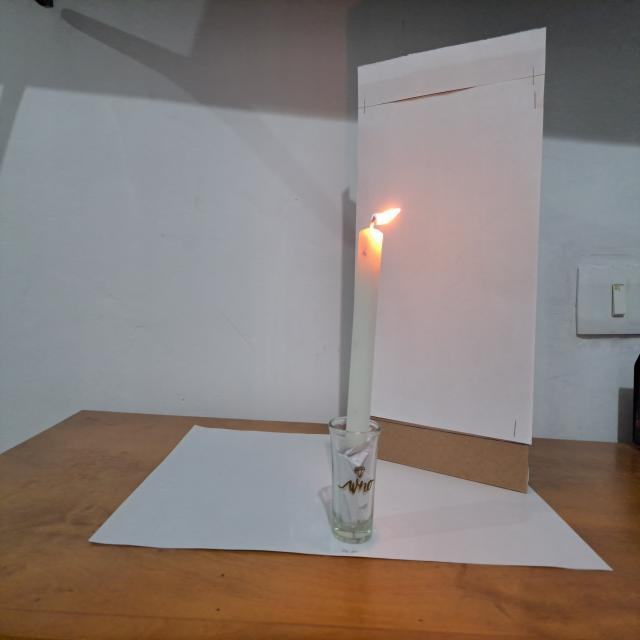candle: (327, 196, 398, 544)
wall: (354, 19, 550, 498)
